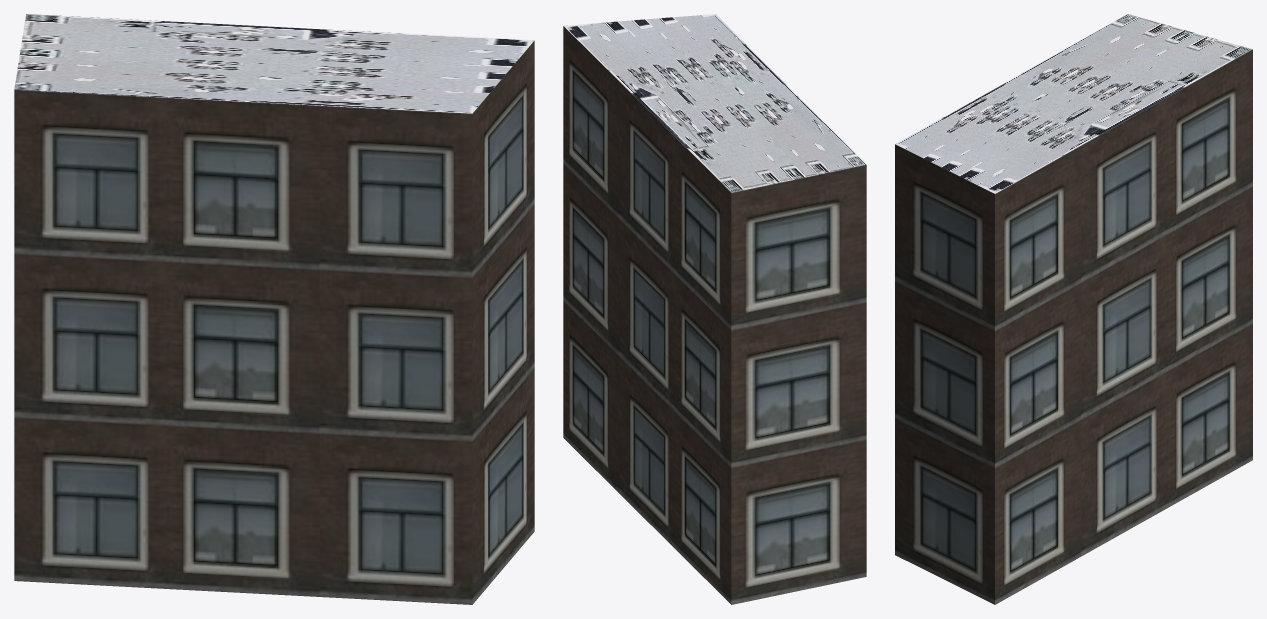
File: ResTex__4446.fbx
3 views of the same model, side by side, from view 1: azimuth 30°, elevation 25°; view 2: azimuth 150°, elevation 25°; view 3: azimuth 270°, elevation 25° (orthographic). The views are drawn at different scales.
Parts seen in each view (by area): view 1: CityEngineMaterial_16_m, CityEngineMaterial_15_m; view 2: CityEngineMaterial_16_m, CityEngineMaterial_15_m; view 3: CityEngineMaterial_16_m, CityEngineMaterial_15_m.
Part boxes in pixels (bbox=[...]): CityEngineMaterial_16_m: bbox=[14, 41, 534, 604]; CityEngineMaterial_15_m: bbox=[14, 14, 534, 113]; CityEngineMaterial_16_m: bbox=[563, 26, 866, 604]; CityEngineMaterial_15_m: bbox=[563, 14, 866, 192]; CityEngineMaterial_16_m: bbox=[895, 49, 1252, 604]; CityEngineMaterial_15_m: bbox=[895, 14, 1252, 193].
Size of the model in its own units: 8.46 by 9 by 7.1.
2 materials, 2 textured.
